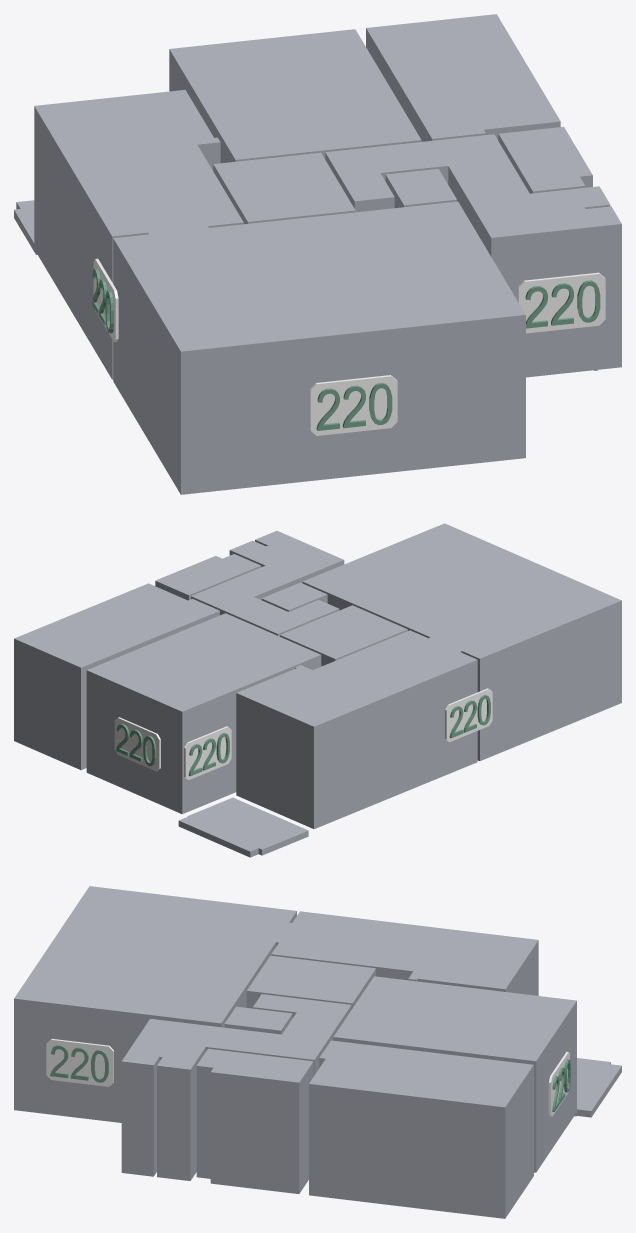
3 views of the same model, one above another, from view 1: azimuth 30°, elevation 25°; view 2: azimuth 150°, elevation 25°; view 3: azimuth 270°, elevation 25° (orthographic). The views are drawn at different scales.
Parts seen in each view (by area): view 1: g_1, g_0, g_7, g_3, g_4, g_2, g_5, g_24, g_12, g_6, g_32, g_8; view 2: g_1, g_0, g_3, g_4, g_7, g_8, g_2, g_5, g_20, g_28, g_32, g_6; view 3: g_1, g_4, g_3, g_7, g_5, g_0, g_2, g_16, g_8, g_6, g_20.
Part boxes in pixels (x1,y1,x2,y2): g_1: (113, 201, 525, 494); g_0: (34, 89, 243, 379); g_7: (325, 134, 621, 377); g_3: (169, 29, 421, 163); g_4: (366, 14, 560, 141); g_2: (213, 152, 355, 224); g_5: (498, 126, 592, 193); g_24: (310, 375, 397, 435); g_12: (518, 272, 605, 333); g_6: (385, 168, 456, 207); g_32: (93, 258, 118, 342); g_8: (14, 200, 37, 254); g_1: (302, 523, 621, 760); g_0: (236, 630, 477, 828); g_3: (86, 613, 321, 814); g_4: (14, 583, 219, 770); g_7: (191, 531, 344, 636); g_8: (178, 797, 308, 857); g_2: (280, 605, 407, 666); g_5: (155, 554, 261, 600); g_20: (114, 717, 160, 771); g_28: (184, 726, 231, 779); g_32: (445, 688, 492, 741); g_6: (261, 582, 327, 611); g_1: (14, 886, 296, 1122); g_4: (309, 1040, 533, 1218); g_3: (333, 976, 576, 1172); g_7: (121, 994, 351, 1180); g_5: (196, 1048, 313, 1193); g_0: (271, 911, 538, 995); g_2: (246, 955, 375, 1009); g_16: (46, 1039, 113, 1086); g_8: (574, 1058, 621, 1117); g_6: (224, 1006, 292, 1034); g_20: (548, 1051, 569, 1116).
Bounding box in the file's own units: 10.96 × 2.74 × 12.73.
